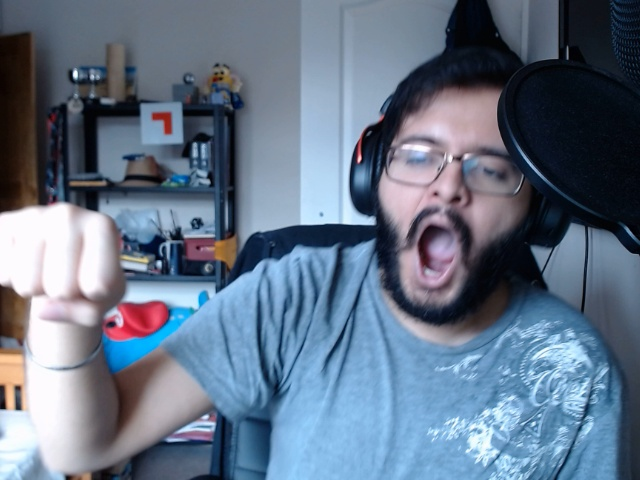Yes: (1, 189, 140, 328)
